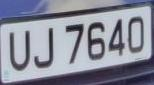0: (126, 12, 147, 60)
4: (107, 13, 128, 65)
6: (85, 17, 109, 65)
7: (64, 19, 85, 68)
J: (32, 24, 57, 73)
U: (6, 28, 32, 74)
